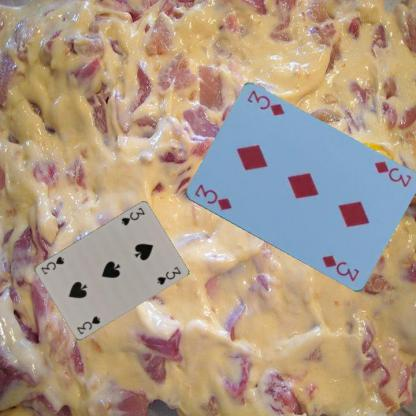3d: (371, 158, 412, 189), (191, 182, 233, 212)
3s: (74, 314, 102, 336), (119, 205, 146, 227)
